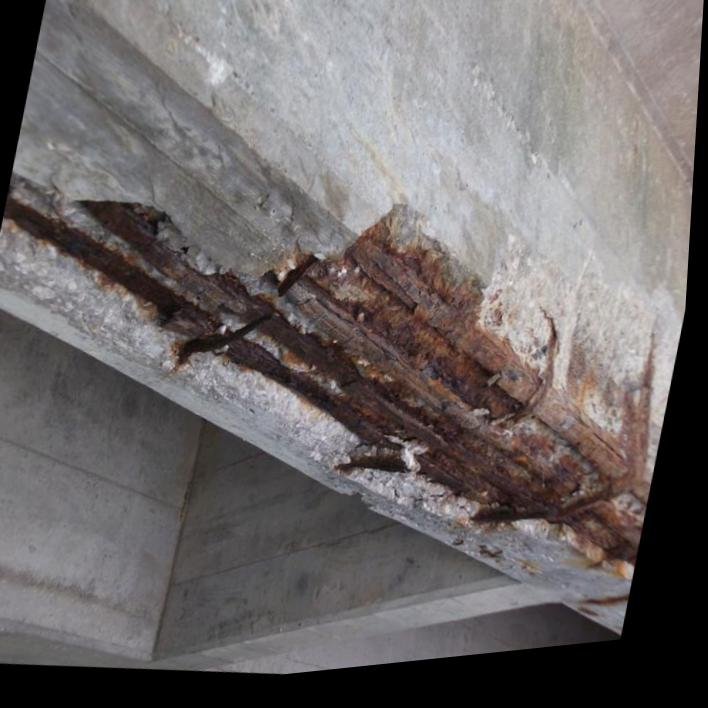damage: (3, 168, 686, 621)
